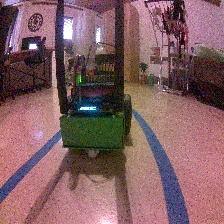rob: (58, 52, 132, 158)
